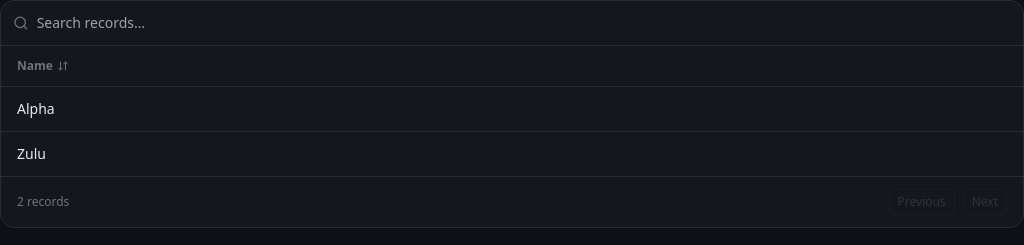
it: DataTable › filters records
Step 1. Type "Alpha" into the field labelled "Search" → (524, 23), box [37,13,1011,33]
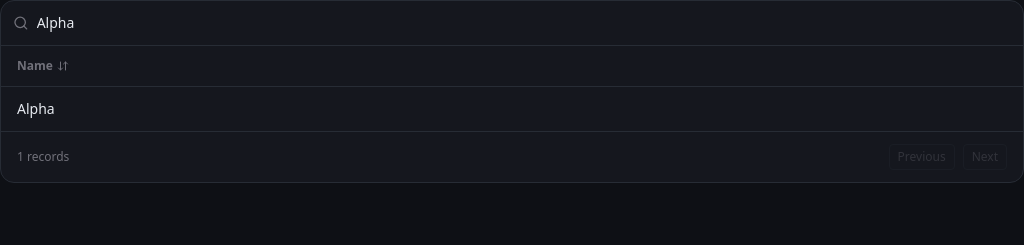
Expected: the text "Alpha" is shown, [1,86,1023,131]
Expected: the text "Zulu" is gone
